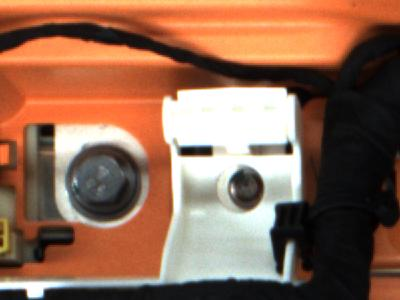nut_b: (60, 141, 154, 228)
